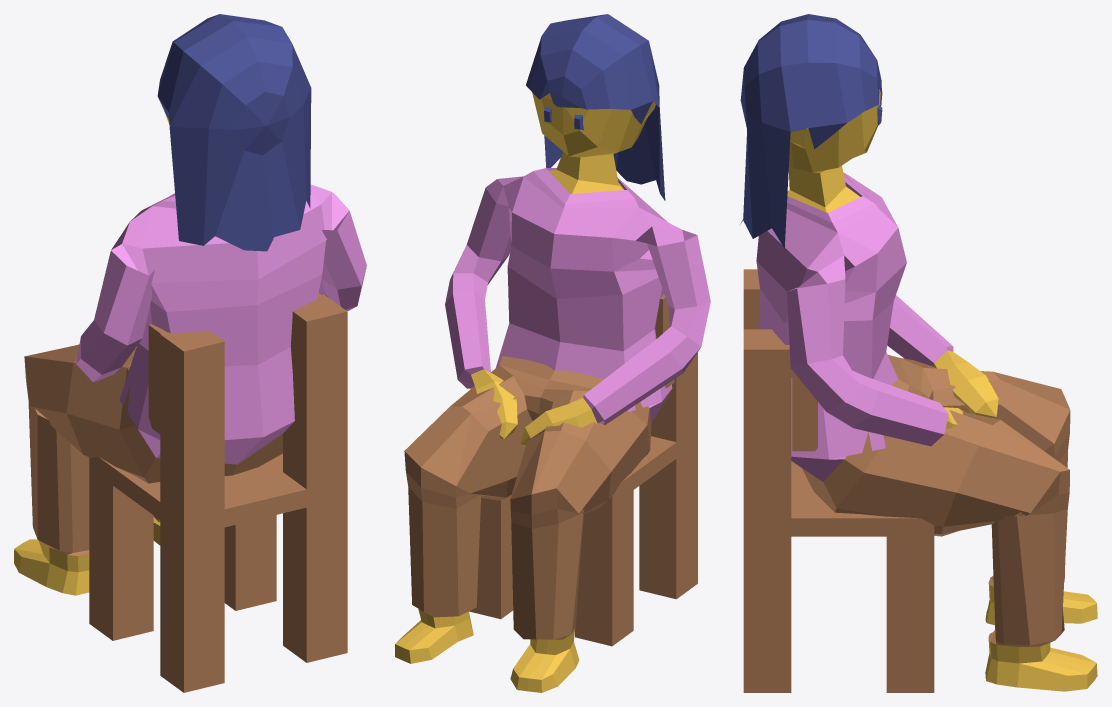
File: 085_作業(Woman).glb
3 renders of one model, left to right at view 1: azimuth 30°, elevation 25°; view 2: azimuth 150°, elevation 25°; view 3: azimuth 270°, elevation 25°, orthographic. The views are drawn at different scales.
Visible parts, largest first — view 1: 立方体045_5, 立方体045_4, 立方体045, 立方体045_2, 立方体045_1; view 2: 立方体045_4, 立方体045_2, 立方体045_5, 立方体045, 立方体045_1, 立方体045_3; view 3: 立方体045_2, 立方体045_4, 立方体045_5, 立方体045, 立方体045_1, 立方体045_3.
Part boxes in pixels (x1,y1,x2,y2): 立方体045_5: (89,293,347,692); 立方体045_4: (76,184,366,464); 立方体045: (157,14,311,251); 立方体045_2: (24,344,282,555); 立方体045_1: (14,112,169,595); 立方体045_4: (445,168,710,425); 立方体045_2: (404,356,651,639); 立方体045_5: (469,294,697,646); 立方体045: (526,14,665,200); 立方体045_1: (395,92,655,692); 立方体045_3: (471,369,597,446); 立方体045_2: (802,355,1070,646); 立方体045_4: (756,172,953,481); 立方体045_5: (743,269,934,692); 立方体045: (740,14,882,248); 立方体045_1: (787,89,1097,691); 立方体045_3: (932,350,998,428).
Size of the model in its own units: 0.7519 by 1.63 by 0.8379.
